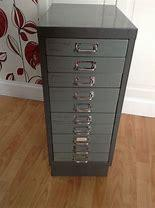cabinet_door: (46, 39, 128, 57), (46, 57, 125, 73), (48, 72, 123, 87), (50, 87, 120, 101), (51, 102, 117, 114), (52, 113, 115, 125), (53, 124, 113, 135), (53, 135, 112, 145), (56, 153, 108, 163), (54, 145, 110, 154)
handle: (73, 76, 96, 89), (74, 44, 98, 56), (73, 61, 97, 72), (72, 91, 95, 102), (72, 103, 94, 114), (72, 115, 93, 125), (72, 126, 93, 136), (72, 136, 91, 145), (73, 155, 90, 165), (72, 146, 90, 155)
